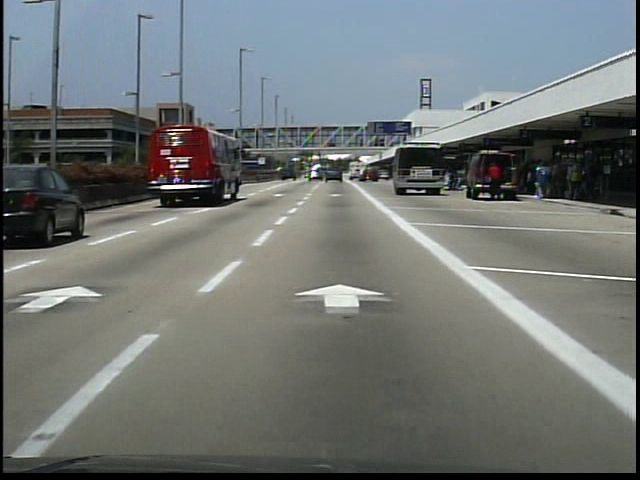person: (487, 162, 504, 205), (441, 172, 460, 196)
